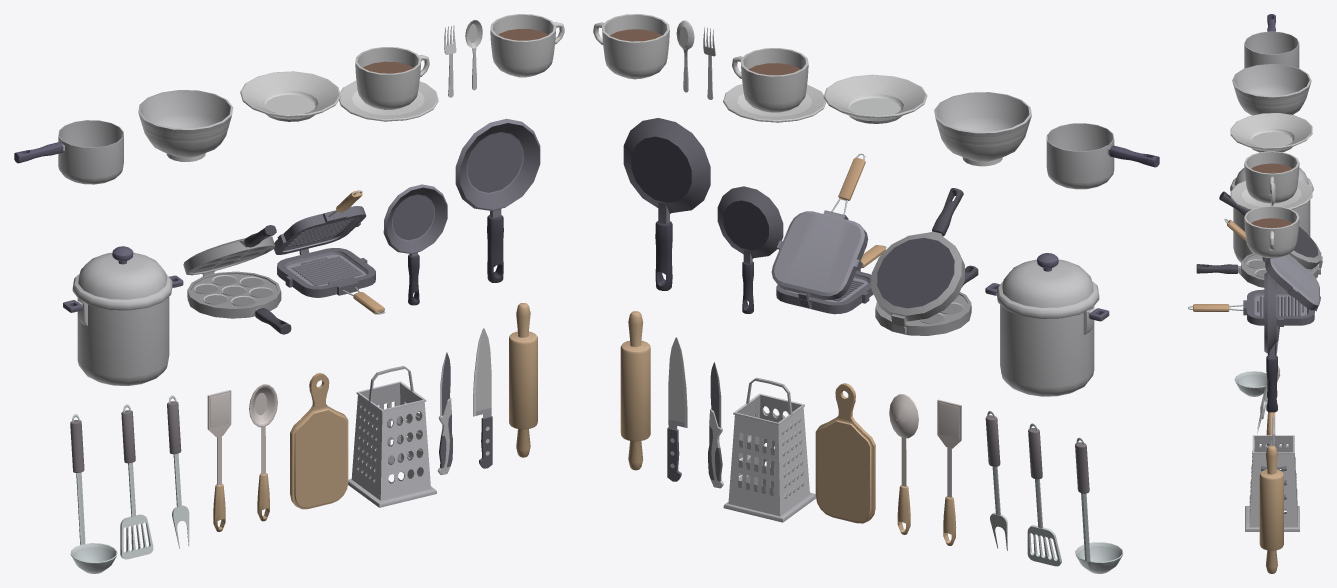
File: kitchen.glb
The picture shows the model from 3 angles, left to right: view 1: azimuth 30°, elevation 25°; view 2: azimuth 150°, elevation 25°; view 3: azimuth 270°, elevation 25°; orthographic projection. The views are drawn at different scales.
Parts seen in each view (by area): view 1: grater, Big frying pan, pan, board, a mug1, bowl1, pot lid, pan_small, grill-barbecue bottom, bottom baking form, small frying pan, bowl2 (+11 smaller); view 2: grater, Big frying pan, pan, grill-barbecue top, baking form top, board, a mug1, bowl1, pot lid, pan_small, small frying pan, a mug2 (+11 smaller); view 3: a mug1, bowl1, grater, bowl2, a mug2, rolling pin, grill-barbecue bottom, grill-barbecue top, pan_small, Big frying pan, bottom baking form, baking form top (+3 smaller).
Part boxes in pixels (x1,y1,x2,y2): grater: (348, 366, 436, 507); Big frying pan: (455, 118, 540, 282); pan: (63, 275, 183, 385); board: (290, 373, 348, 509); a mug1: (339, 47, 438, 121); bowl1: (138, 90, 233, 161); pot lid: (72, 246, 172, 310); pan_small: (14, 120, 123, 184); grill-barbecue bottom: (277, 248, 385, 314); bottom baking form: (187, 271, 291, 334); small frying pan: (383, 184, 447, 305); bowl2: (240, 71, 340, 121); grater: (723, 377, 815, 522); Big frying pan: (623, 118, 710, 290); pan: (985, 283, 1109, 396); grill-barbecue top: (771, 153, 868, 300); baking form top: (871, 188, 964, 326); board: (815, 383, 875, 523); a mug1: (723, 48, 826, 122); bowl1: (934, 92, 1031, 166); pot lid: (996, 253, 1099, 318); pan_small: (1046, 123, 1159, 189); small frying pan: (717, 186, 783, 313); a mug2: (593, 14, 669, 79); a mug1: (1230, 151, 1312, 210); bowl1: (1232, 64, 1311, 115); grater: (1245, 416, 1299, 531); bowl2: (1230, 113, 1312, 152); a mug2: (1244, 206, 1299, 258); rolling pin: (1259, 445, 1283, 573); grill-barbecue bottom: (1188, 288, 1318, 326); grill-barbecue top: (1224, 219, 1320, 310); pan_small: (1244, 14, 1299, 68); Big frying pan: (1264, 272, 1277, 412); bottom baking form: (1196, 253, 1320, 289); baking form top: (1219, 191, 1322, 269).
Size of the model in its own units: 5.06 by 3.98 by 1.3.
